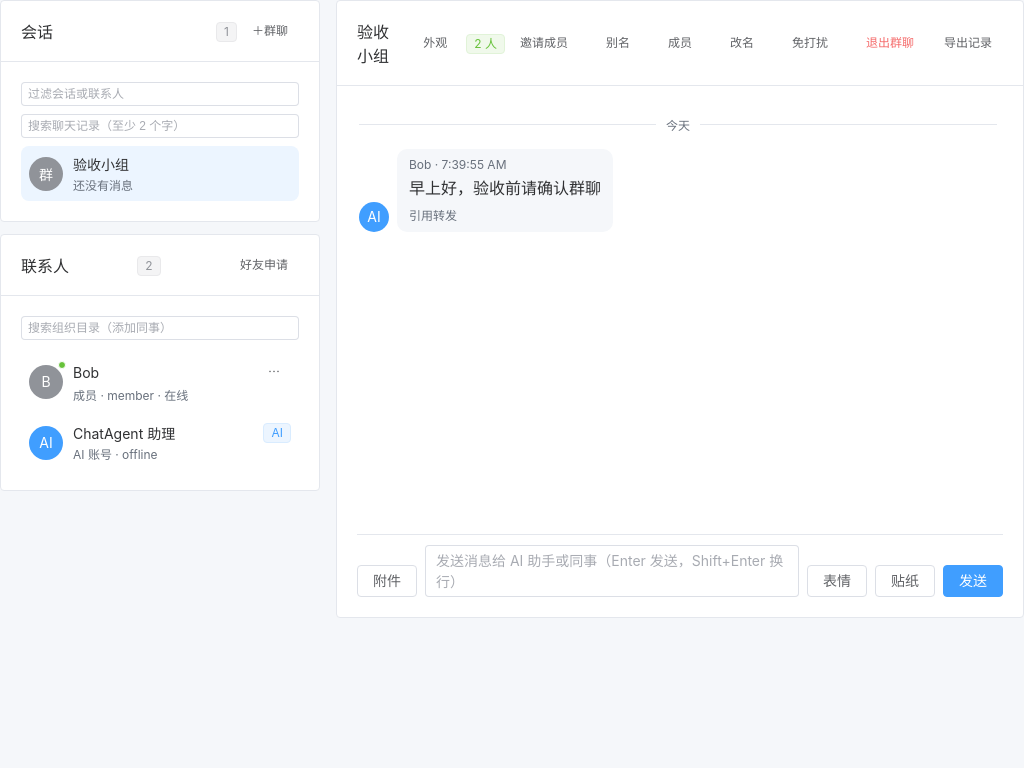
Test: ChatView › lists the group participants in a dialog
Click the button with test id "members".
click(680, 43)  # box top-left (657, 31), bottom-right (703, 55)
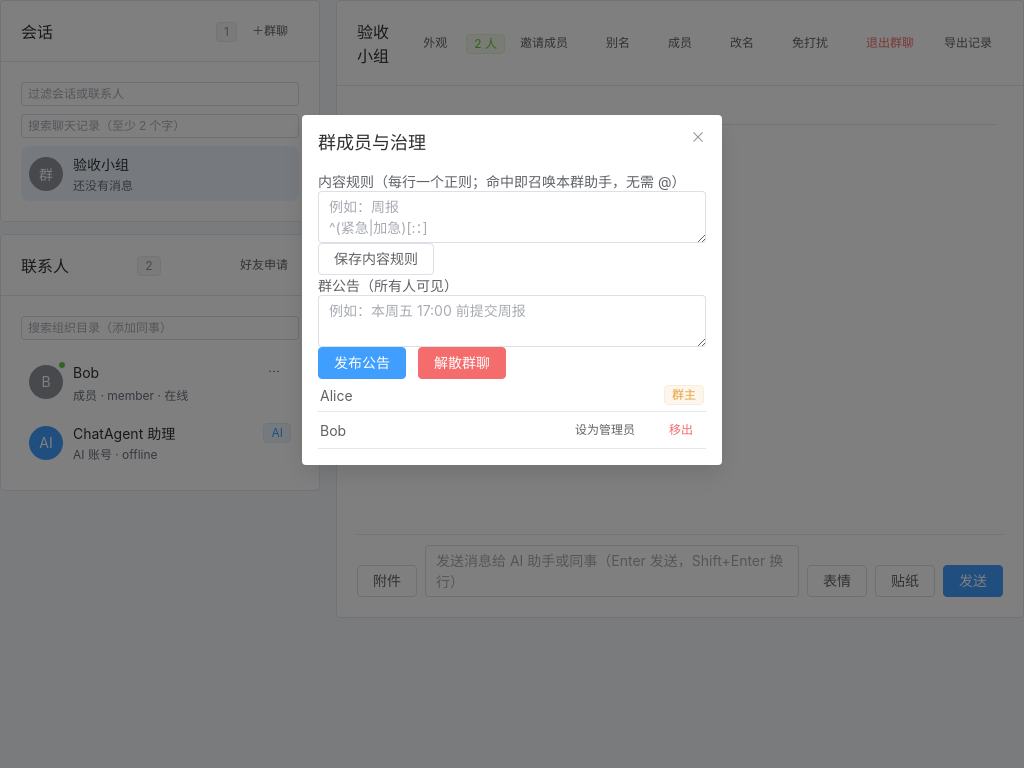
expect the text "Bob" is shown: met, box top-left (320, 422), bottom-right (346, 439)
expect the text "群成员" is shown: met, box top-left (318, 132), bottom-right (426, 153)
